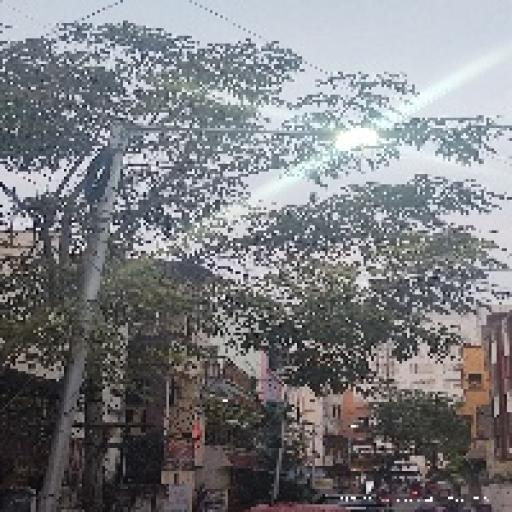Working: (323, 124, 383, 157)
